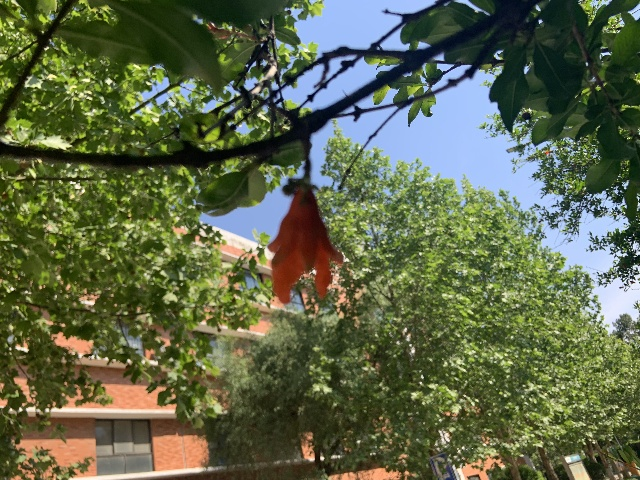flower: (267, 188, 341, 303)
